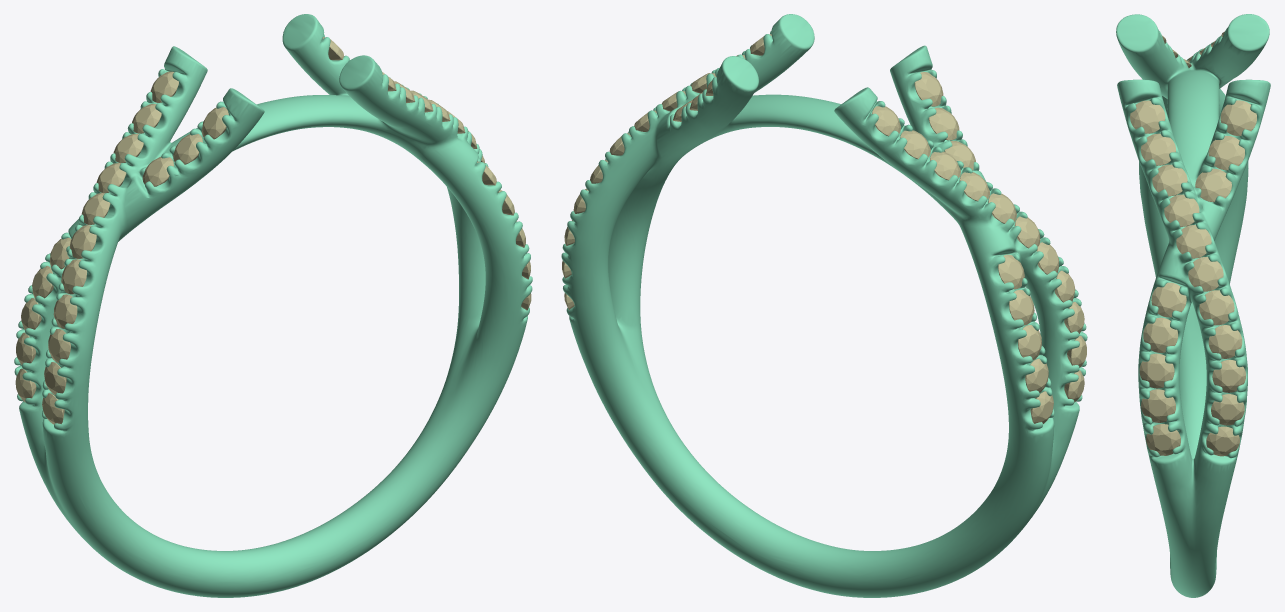
3 views of the same model, side by side, from view 1: azimuth 30°, elevation 25°; view 2: azimuth 150°, elevation 25°; view 3: azimuth 270°, elevation 25° (orthographic). The views are drawn at different scales.
Parts seen in each view (by area): view 1: Metal02; view 2: Metal02; view 3: Metal02, Diamond_Gem.002, Diamond_Gem.001, Diamond_Gem.008, Diamond_Gem.009, Diamond_Gem.015, Diamond_Gem.016, Diamond_Gem.014, Diamond_Gem, Diamond_Gem.007, Diamond_Gem.003, Diamond_Gem.017 (+8 smaller).
Part boxes in pixels (x1=…): Metal02: x1=14, y1=14, x2=532, y2=597; Metal02: x1=561, y1=14, x2=1087, y2=597; Metal02: x1=1116, y1=14, x2=1270, y2=597; Diamond_Gem.002: x1=1220, y1=100, x2=1256, y2=135; Diamond_Gem.001: x1=1208, y1=136, x2=1244, y2=170; Diamond_Gem.008: x1=1188, y1=257, x2=1223, y2=291; Diamond_Gem.009: x1=1199, y1=290, x2=1234, y2=325; Diamond_Gem.015: x1=1143, y1=317, x2=1178, y2=352; Diamond_Gem.016: x1=1139, y1=353, x2=1174, y2=388; Diamond_Gem.014: x1=1151, y1=282, x2=1186, y2=317; Diamond_Gem: x1=1195, y1=168, x2=1231, y2=202; Diamond_Gem.007: x1=1176, y1=225, x2=1211, y2=258; Diamond_Gem.003: x1=1130, y1=100, x2=1165, y2=133; Diamond_Gem.017: x1=1141, y1=389, x2=1175, y2=422.
Bounding box in the file's own units: 21.04 × 22.24 × 5.93.
